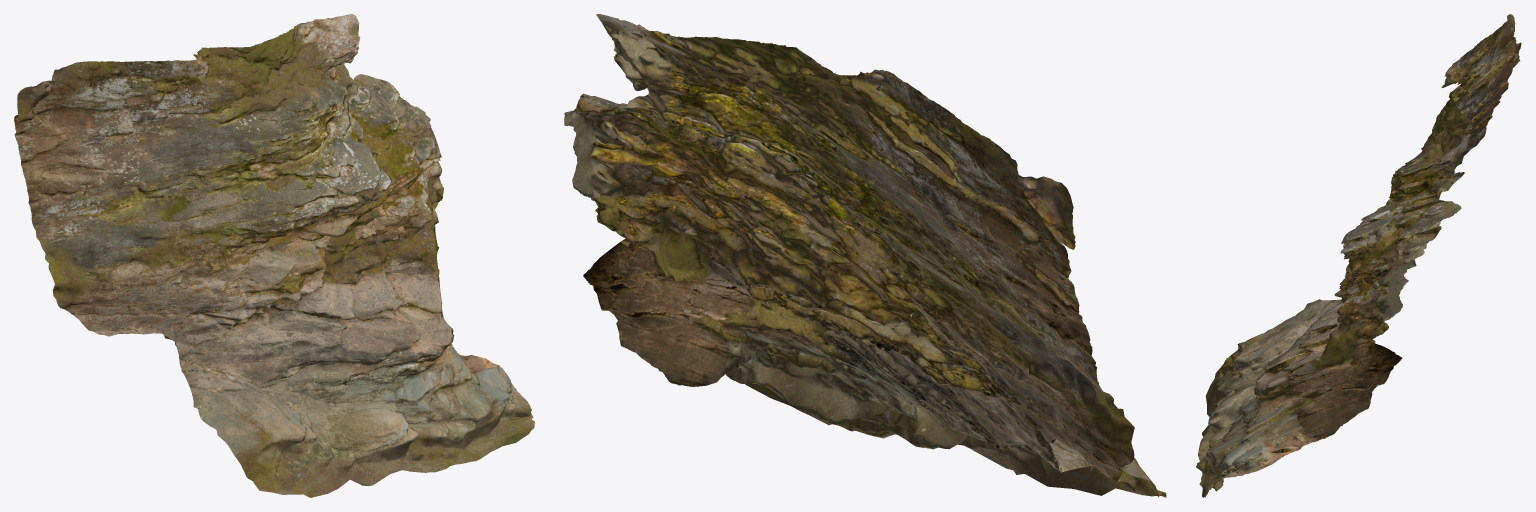
Rendered from rock_face_02.gltf.
3 views of the same model, side by side, from view 1: azimuth 30°, elevation 25°; view 2: azimuth 150°, elevation 25°; view 3: azimuth 270°, elevation 25° (orthographic). The views are drawn at different scales.
Parts seen in each view (by area): view 1: rock_face_02; view 2: rock_face_02; view 3: rock_face_02.
Boxes of the visible parts, bbox=[...] form: rock_face_02: bbox=[14, 14, 534, 497]; rock_face_02: bbox=[564, 14, 1166, 497]; rock_face_02: bbox=[1196, 14, 1521, 497].
Bounding box in the file's own units: 2.71 × 2.47 × 2.13.
Materials: 1 (1 with a texture image).
